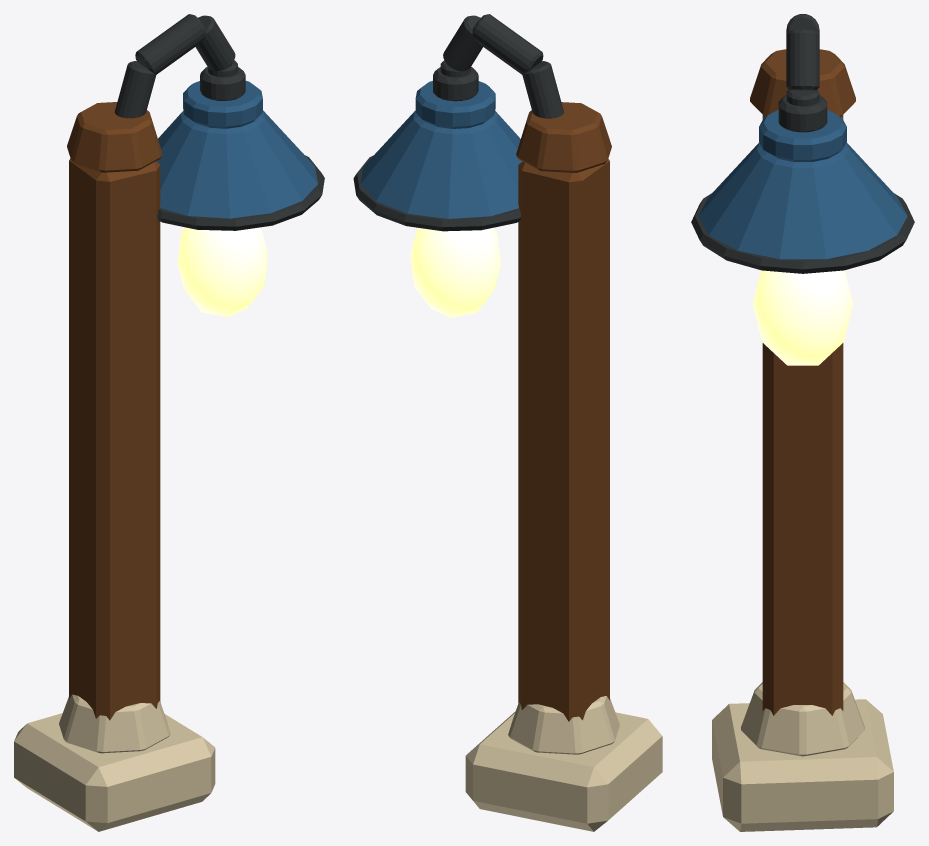
File: EnamelGardenLamp.glb
3 views of the same model, side by side, from view 1: azimuth 30°, elevation 25°; view 2: azimuth 150°, elevation 25°; view 3: azimuth 270°, elevation 25° (orthographic). The views are drawn at different scales.
Visible parts, largest first — view 1: EnamelGardenLamp_WoodPost, EnamelGardenLamp_LimestoneFoot, EnamelGardenLamp_EnamelShade, EnamelGardenLamp_MetalTrim, EnamelGardenLamp_Bulb; view 2: EnamelGardenLamp_WoodPost, EnamelGardenLamp_LimestoneFoot, EnamelGardenLamp_EnamelShade, EnamelGardenLamp_MetalTrim, EnamelGardenLamp_Bulb; view 3: EnamelGardenLamp_WoodPost, EnamelGardenLamp_LimestoneFoot, EnamelGardenLamp_EnamelShade, EnamelGardenLamp_MetalTrim, EnamelGardenLamp_Bulb.
Boxes of the visible parts, x1,y1,x2,y2 form: EnamelGardenLamp_WoodPost: [67, 102, 162, 720]; EnamelGardenLamp_LimestoneFoot: [14, 694, 215, 831]; EnamelGardenLamp_EnamelShade: [156, 81, 317, 218]; EnamelGardenLamp_MetalTrim: [114, 14, 324, 230]; EnamelGardenLamp_Bulb: [177, 227, 268, 317]; EnamelGardenLamp_WoodPost: [516, 102, 611, 721]; EnamelGardenLamp_LimestoneFoot: [465, 696, 662, 831]; EnamelGardenLamp_EnamelShade: [360, 81, 522, 218]; EnamelGardenLamp_MetalTrim: [353, 14, 563, 231]; EnamelGardenLamp_Bulb: [410, 227, 500, 317]; EnamelGardenLamp_WoodPost: [750, 49, 855, 715]; EnamelGardenLamp_LimestoneFoot: [712, 682, 893, 831]; EnamelGardenLamp_EnamelShade: [698, 109, 907, 259]; EnamelGardenLamp_MetalTrim: [691, 14, 914, 273]; EnamelGardenLamp_Bulb: [752, 270, 853, 365].
Size of the model in its own units: 0.5236 by 1.41 by 0.346.
